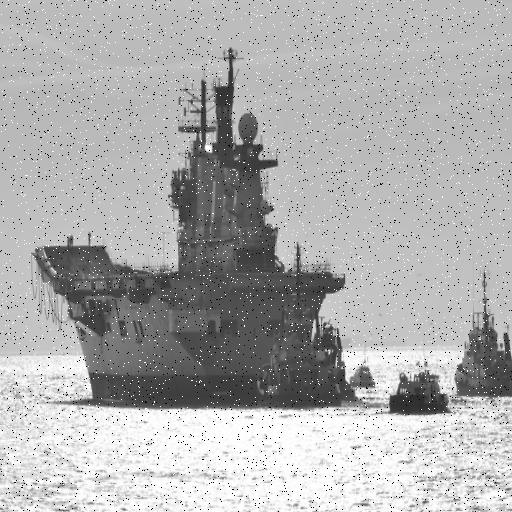Portanaves: (31, 43, 355, 411)
